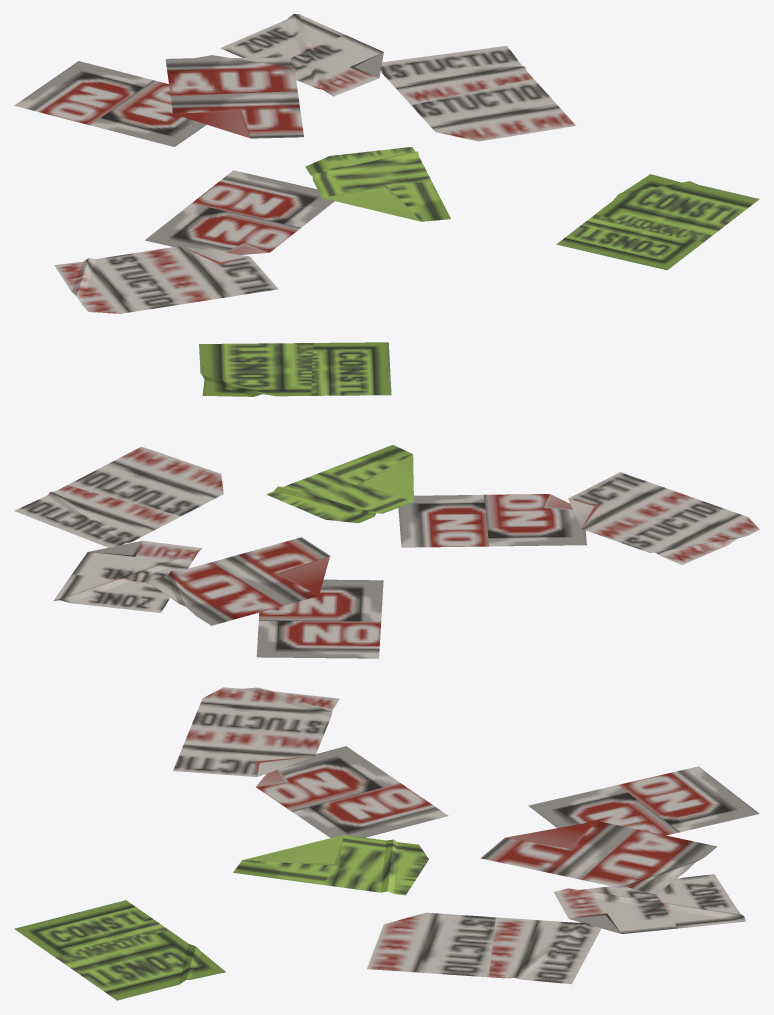
Rendered from SM_Gen_Prop_Papers_05.glb.
3 views of the same model, one above another, from view 1: azimuth 30°, elevation 25°; view 2: azimuth 150°, elevation 25°; view 3: azimuth 270°, elevation 25° (orthographic). The views are drawn at different scales.
Parts seen in each view (by area): view 1: SM_Gen_Prop_Papers_05; view 2: SM_Gen_Prop_Papers_05; view 3: SM_Gen_Prop_Papers_05.
Boxes of the visible parts, bbox=[...] form: SM_Gen_Prop_Papers_05: bbox=[14, 14, 759, 313]; SM_Gen_Prop_Papers_05: bbox=[14, 342, 759, 658]; SM_Gen_Prop_Papers_05: bbox=[14, 687, 759, 1000].
Size of the model in its own units: 1.34 by 0.00804 by 1.35.
Materials: 1 (1 with a texture image).
